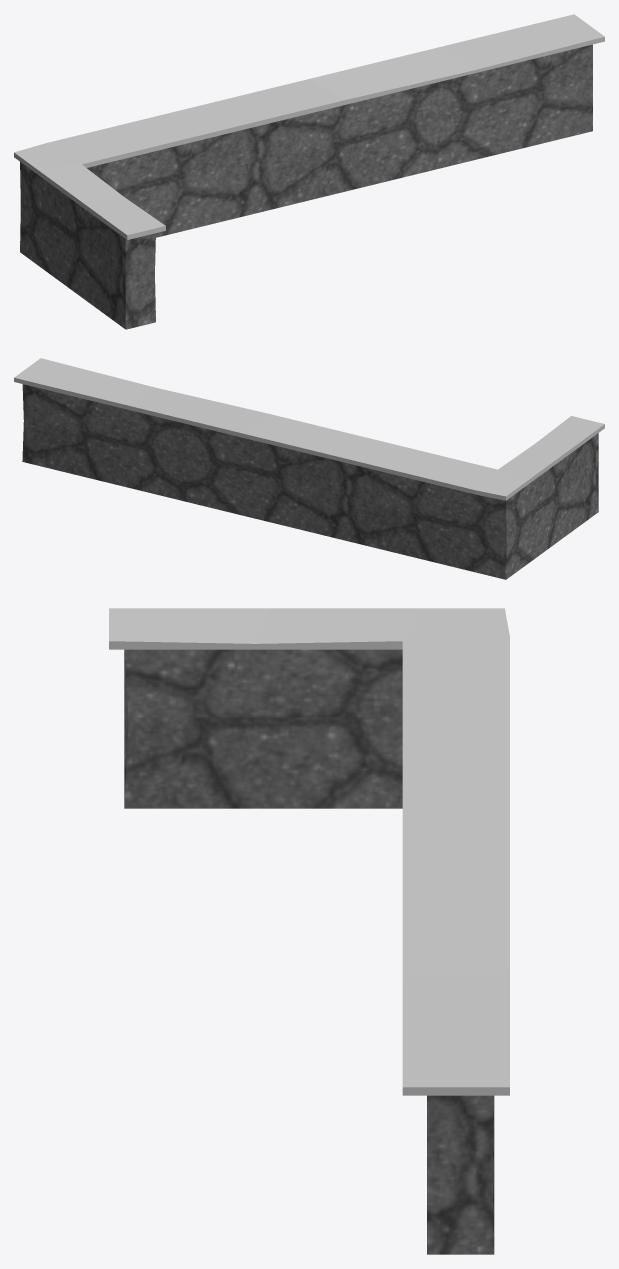
Rendered from Simple Low Wall.fbx.
3 renders of one model, top to bottom at view 1: azimuth 30°, elevation 25°; view 2: azimuth 150°, elevation 25°; view 3: azimuth 270°, elevation 25°, orthographic. The views are drawn at different scales.
Visible parts, largest first — view 1: low_wall; view 2: low_wall; view 3: low_wall.
Boxes of the visible parts, x1,y1,x2,y2 form: low_wall: (14,14,604,329); low_wall: (14,358,604,579); low_wall: (109,608,509,1254).
Size of the model in its own units: 704 by 118 by 249.
